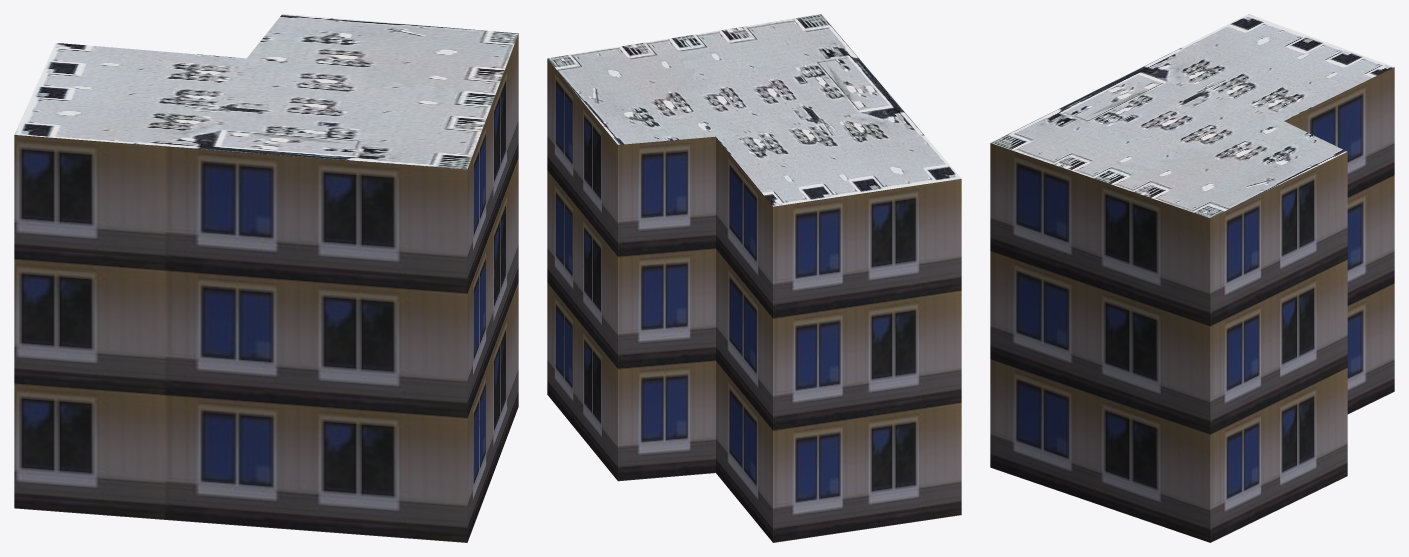
Rendered from ResTex__4277.fbx.
The picture shows the model from 3 angles, left to right: view 1: azimuth 30°, elevation 25°; view 2: azimuth 150°, elevation 25°; view 3: azimuth 270°, elevation 25°; orthographic projection. The views are drawn at different scales.
Parts seen in each view (by area): view 1: CityEngineMaterial_5_m, CityEngineMaterial_2_m; view 2: CityEngineMaterial_5_m, CityEngineMaterial_2_m; view 3: CityEngineMaterial_5_m, CityEngineMaterial_2_m.
Part boxes in pixels (x1,y1,x2,y2): CityEngineMaterial_5_m: (14, 34, 518, 542); CityEngineMaterial_2_m: (14, 14, 518, 169); CityEngineMaterial_5_m: (547, 59, 961, 542); CityEngineMaterial_2_m: (547, 14, 961, 206); CityEngineMaterial_5_m: (990, 67, 1394, 542); CityEngineMaterial_2_m: (991, 14, 1394, 218).
Bounding box in the file's own units: 12.16 × 9 × 10.16.
Materials: 2 (2 with a texture image).
